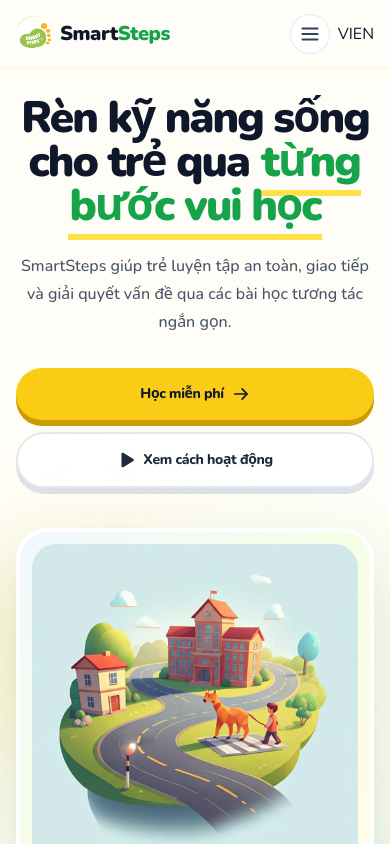
Scenario: switches to English for the current page session
The image size is (390, 844).
Click the button with aria-label "English". click: [363, 34]
box: [353, 22, 374, 46]
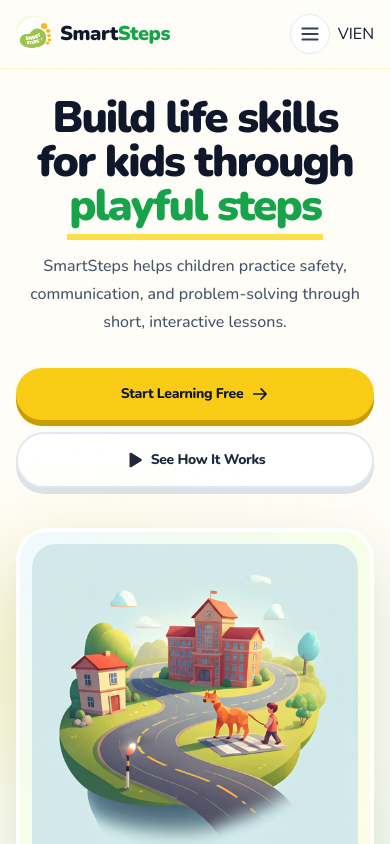
Check: the heading "Build life skills for kids through playful steps" is shown, box [16, 96, 374, 228]
